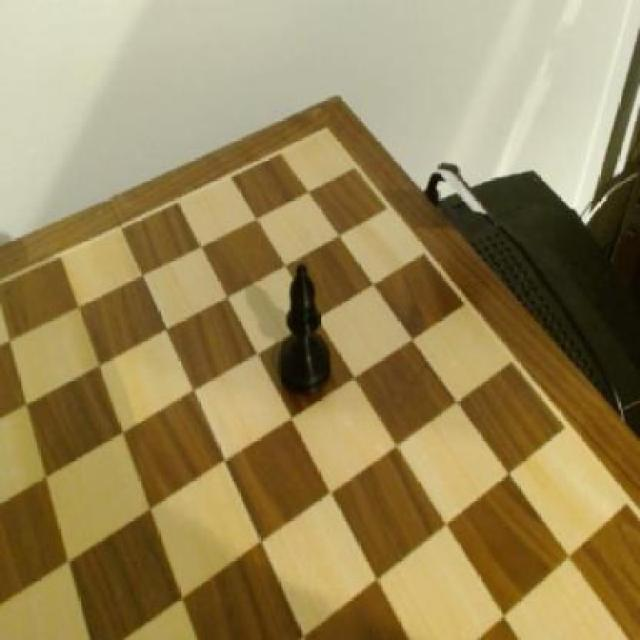bishop: (272, 258, 337, 406)
